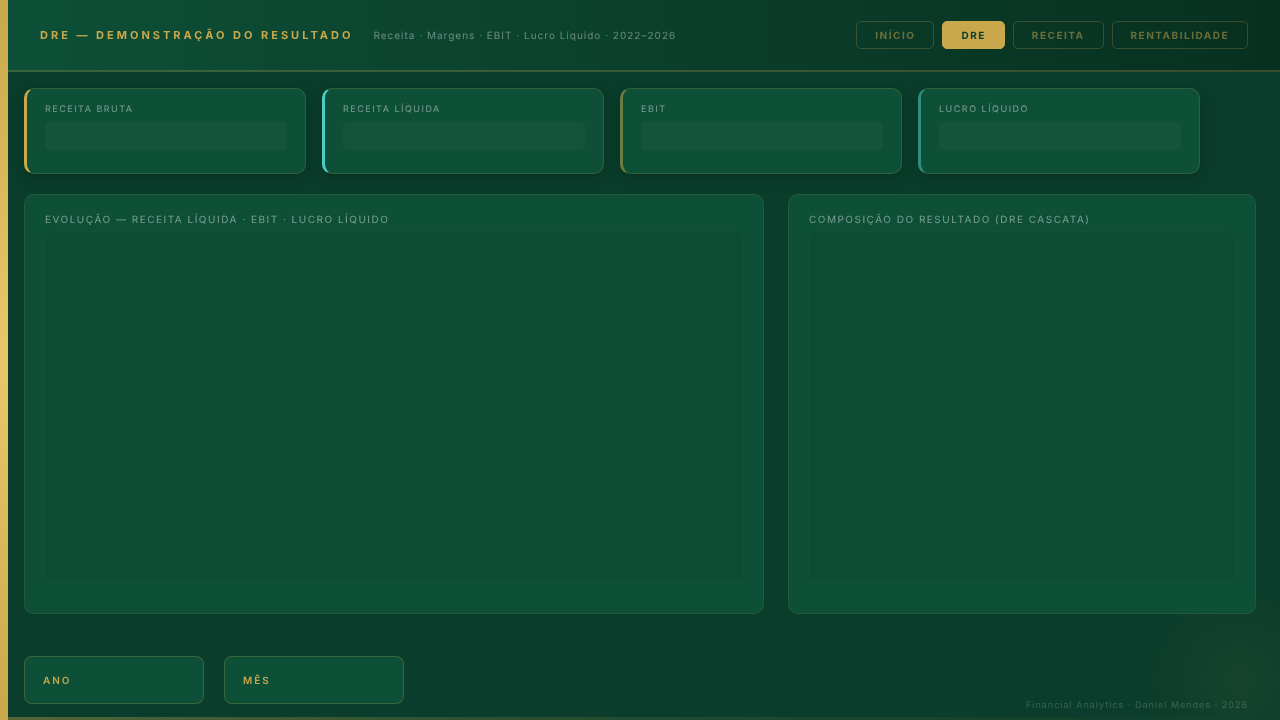

The dashboard page shown, as its layout file describes it:
{"tool":"powerbi","page":{"name":"DRE","canvas":[1920,1080],"ordinal":1},"visuals":[{"type":"cardVisual","fields":{"Data":["_Medidas.Receita Bruta"]},"box":[56.1,146.6,354.7,86.9],"z":0},{"type":"cardVisual","fields":{"Data":["_Medidas.Receita Liquida"]},"box":[501.3,146.6,354.7,86.9],"z":1000},{"type":"cardVisual","fields":{"Data":["_Medidas.EBIT"]},"box":[944.6,146.6,354.7,86.9],"z":2000},{"type":"cardVisual","fields":{"Data":["_Medidas.Lucro Liquido"]},"box":[1395.2,146.6,354.7,86.9],"z":3000},{"type":"lineChart","fields":{"Category":["vw_DRE.data_ref.Variação.Hierarquia de datas.Ano","vw_DRE.data_ref.Variação.Hierarquia de datas.Trimestre","vw_DRE.data_ref.Variação.Hierarquia de datas.Mês","vw_DRE.data_ref.Variação.Hierarquia de datas.Dia"],"Y":["_Medidas.Receita Liquida","_Medidas.EBIT","_Medidas.Lucro Liquido"]},"box":[79.6,351.1,1024.3,533.8],"z":4000},{"type":"clusteredBarChart","fields":{"Category":["vw_DRE.ano"],"Y":["_Medidas.Receita Bruta","_Medidas.Receita Liquida","_Medidas.EBIT","_Medidas.Lucro Liquido"]},"box":[1221.5,351.1,622.5,533.8],"z":5000},{"type":"slicer","fields":{"Values":["vw_DRE.ano"]},"box":[126.7,995.3,161.1,68.8],"z":6000},{"type":"slicer","fields":{"Values":["vw_DRE.mes"]},"box":[428.9,995.3,162.9,50.7],"z":7000},{"type":"actionButton","box":[1286.7,29,108.6,39.8],"z":8000},{"type":"actionButton","box":[1532.8,29,108.6,39.8],"z":9000},{"type":"actionButton","box":[1679.4,29,181,39.8],"z":10000}]}

Visuals, with their boxes in screenshot pixels (x1, y1, x2, y2), scaled from the page's 1920x1080 canvas onto the 1280x720 screenshot:
cardVisual - _Medidas.Receita Bruta: {"left": 37, "top": 98, "right": 274, "bottom": 156}
cardVisual - _Medidas.Receita Liquida: {"left": 334, "top": 98, "right": 571, "bottom": 156}
cardVisual - _Medidas.EBIT: {"left": 630, "top": 98, "right": 866, "bottom": 156}
cardVisual - _Medidas.Lucro Liquido: {"left": 930, "top": 98, "right": 1167, "bottom": 156}
lineChart - vw_DRE.data_ref.Variação.Hierarquia de datas.Ano x vw_DRE.data_ref.Variação.Hierarquia de datas.Trimestre: {"left": 53, "top": 234, "right": 736, "bottom": 590}
clusteredBarChart - vw_DRE.ano x _Medidas.Receita Bruta: {"left": 814, "top": 234, "right": 1229, "bottom": 590}
slicer - vw_DRE.ano: {"left": 84, "top": 664, "right": 192, "bottom": 709}
slicer - vw_DRE.mes: {"left": 286, "top": 664, "right": 395, "bottom": 697}
actionButton: {"left": 858, "top": 19, "right": 930, "bottom": 46}
actionButton: {"left": 1022, "top": 19, "right": 1094, "bottom": 46}
actionButton: {"left": 1120, "top": 19, "right": 1240, "bottom": 46}
